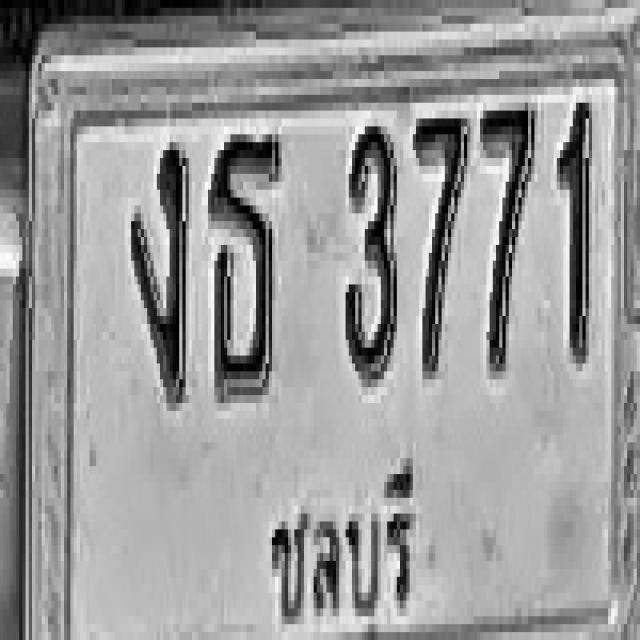1: (557, 95, 592, 363)
16NgorNgu: (130, 134, 187, 403)
3: (342, 119, 397, 379)
33ThorThong: (208, 130, 282, 399)
7: (413, 111, 467, 379), (480, 103, 534, 371)
Chonburi: (260, 449, 437, 640)
